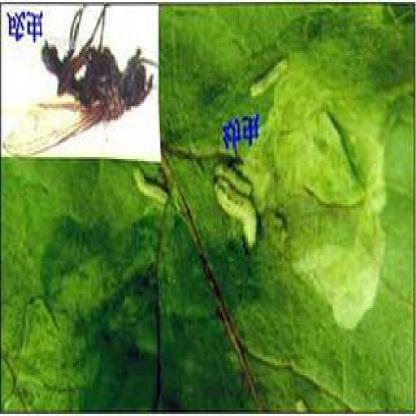whorl-maggot: (214, 156, 262, 252), (132, 164, 174, 214), (250, 54, 292, 98)
